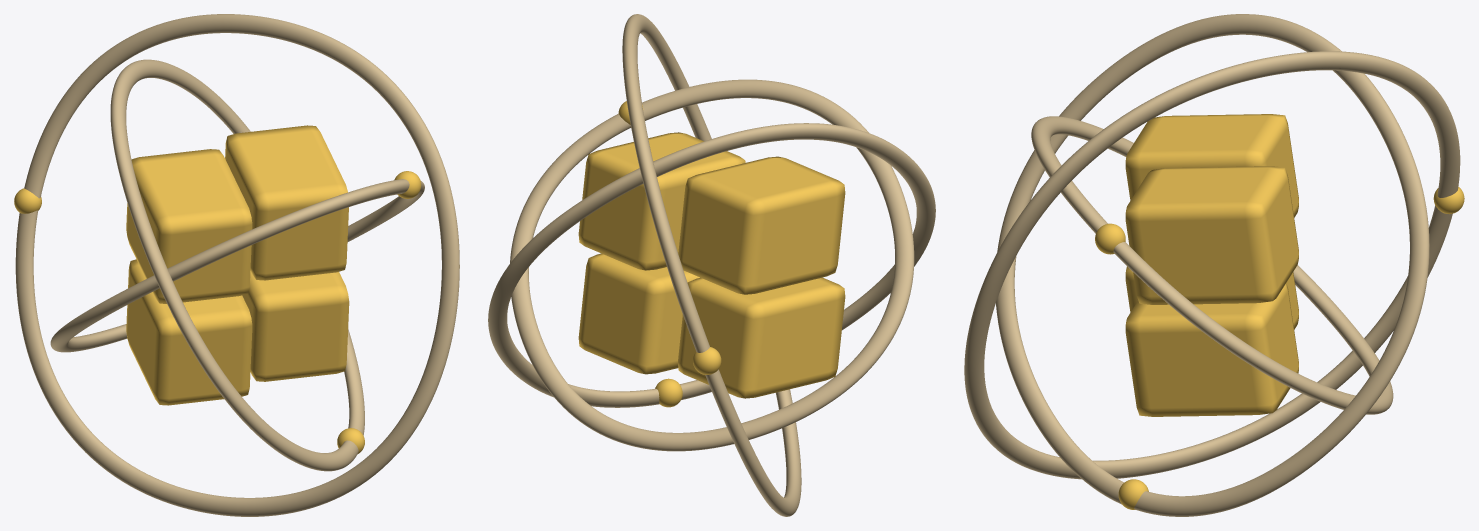
3 views of the same model, side by side, from view 1: azimuth 30°, elevation 25°; view 2: azimuth 150°, elevation 25°; view 3: azimuth 270°, elevation 25° (orthographic). The views are drawn at different scales.
Bounding box in the file's own units: 0.9538 × 1.11 × 1.05.
